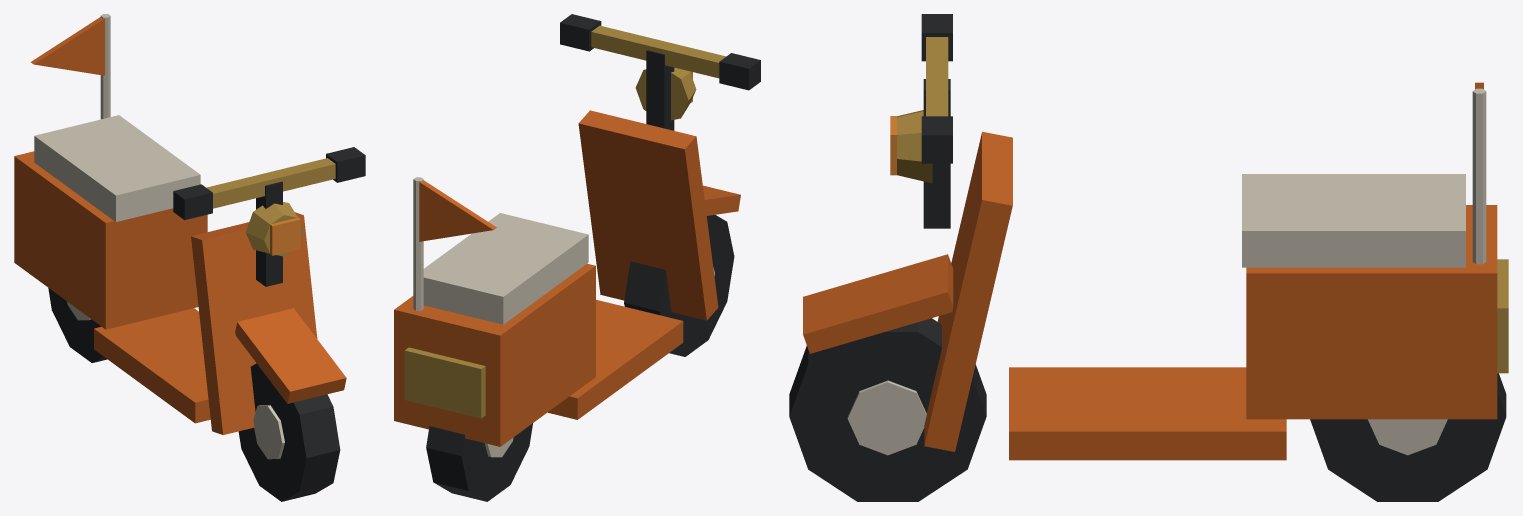
The model's file is poi_scooter.glb.
3 renders of one model, left to right at view 1: azimuth 30°, elevation 25°; view 2: azimuth 150°, elevation 25°; view 3: azimuth 270°, elevation 25°, orthographic. The views are drawn at different scales.
Parts seen in each view (by area): view 1: Scooter; view 2: Scooter; view 3: Scooter.
Part boxes in pixels (box(x1,y1,x2,y2)): Scooter: box(14, 14, 365, 501); Scooter: box(394, 14, 760, 501); Scooter: box(789, 14, 1508, 501).
Size of the model in its own units: 0.64 by 1.04 by 1.6.
